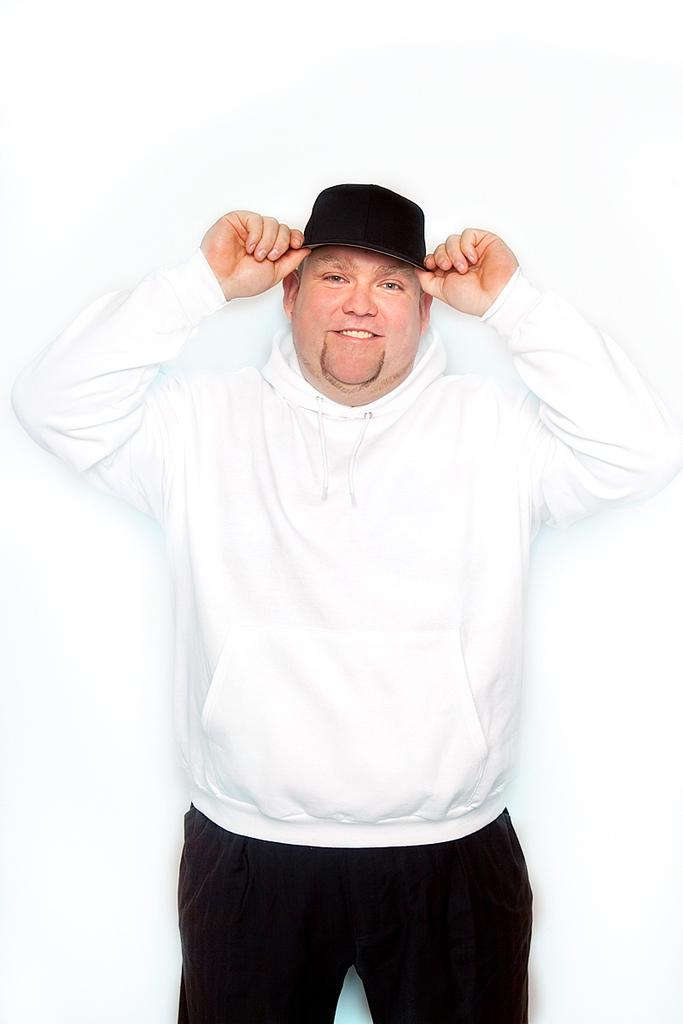Hat: (292, 176, 430, 272)
